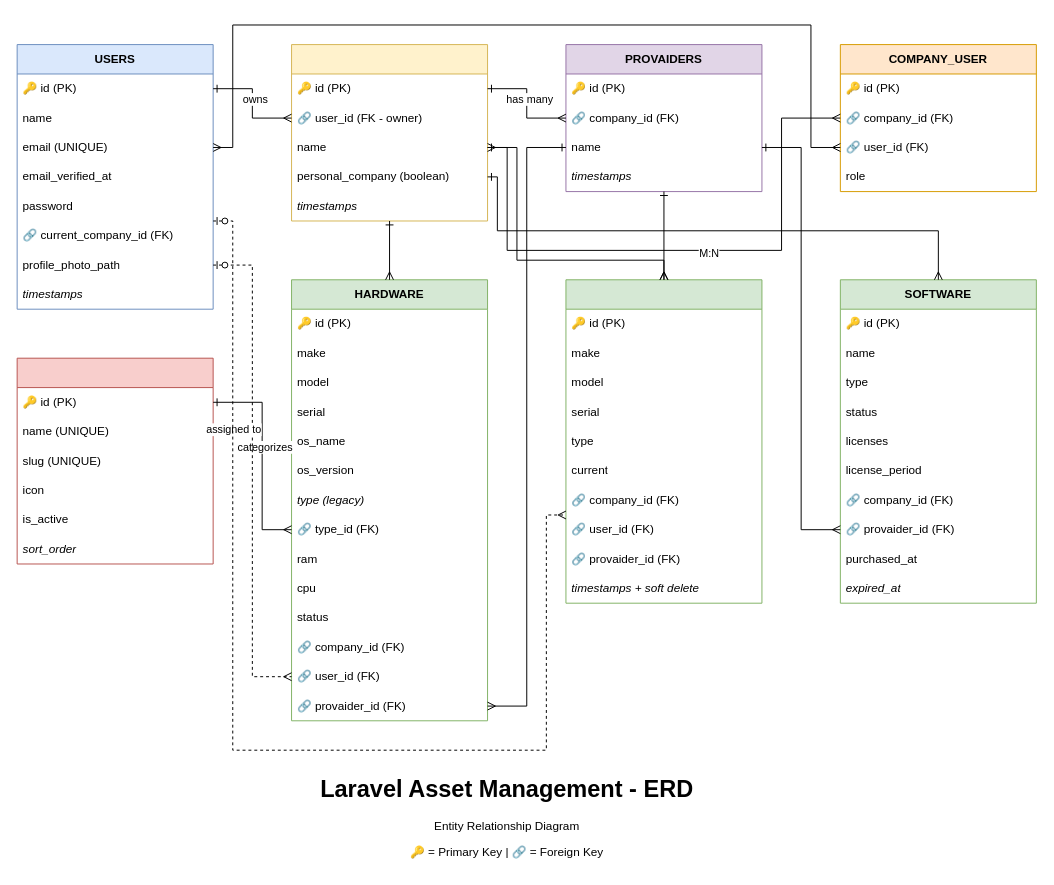
The diagram is 1054 pixels wide and 885 high, and some of its shapes have lost their labels. Each missing label, with the box of its shape:
COMPANIES: (291, 44, 488, 221)
HARDWARE_TYPES: (16, 357, 213, 564)
PERIPHELS: (565, 279, 762, 603)
